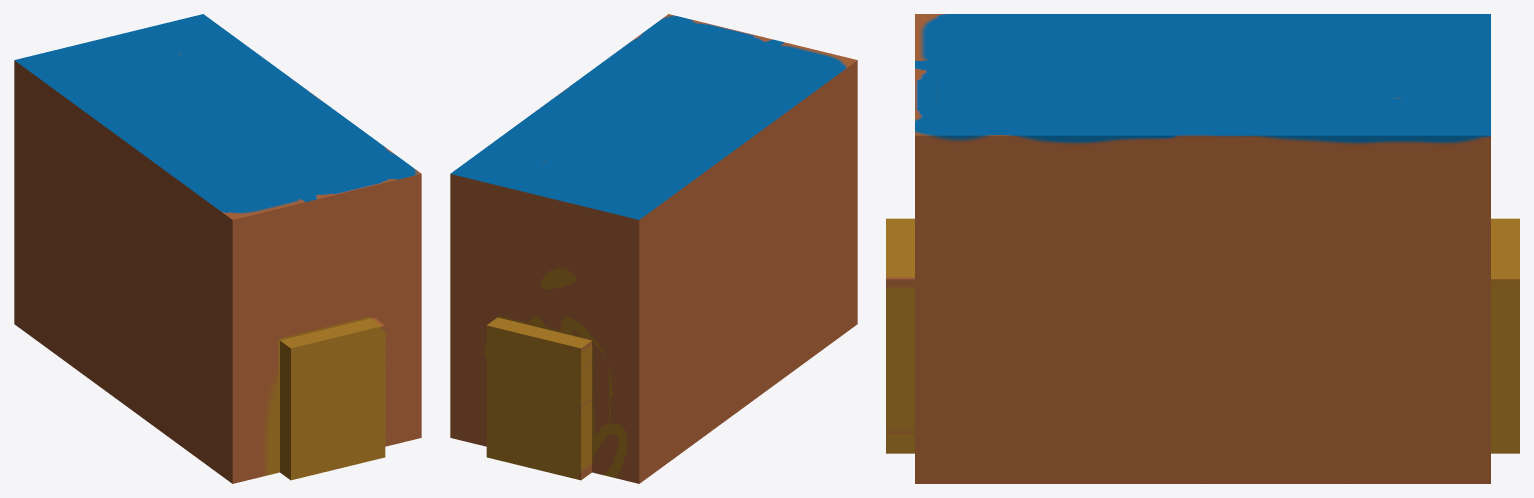
The model's file is building2.glb.
3 views of the same model, side by side, from view 1: azimuth 30°, elevation 25°; view 2: azimuth 150°, elevation 25°; view 3: azimuth 270°, elevation 25° (orthographic). The views are drawn at different scales.
Visible parts, largest first — view 1: Cube; view 2: Cube; view 3: Cube.
Part boxes in pixels (x1,y1,x2,y2): Cube: [14, 14, 421, 483]; Cube: [450, 14, 857, 483]; Cube: [886, 14, 1519, 483].
Bounding box in the file's own units: 30 × 40 × 66.
Materials: 1 (1 with a texture image).
